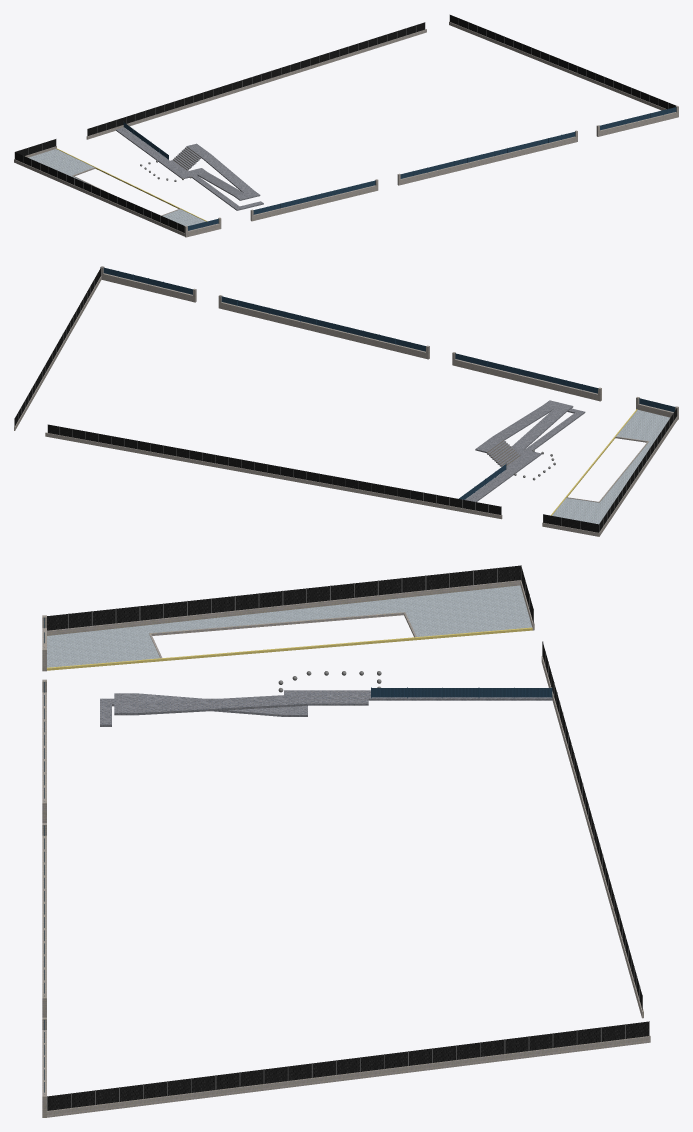
The model's file is Exterior1.fbx.
3 views of the same model, one above another, from view 1: azimuth 30°, elevation 25°; view 2: azimuth 150°, elevation 25°; view 3: azimuth 270°, elevation 25° (orthographic). The views are drawn at different scales.
Parts seen in each view (by area): view 1: Vallas, SueloEscPrinc, Grava, Bordillo; view 2: Vallas, SueloEscPrinc, Grava, Bordillo; view 3: Vallas, Grava, SueloEscPrinc, Bordillo.
Boxes of the visible parts, bbox=[...] form: Vallas: bbox=[14, 14, 678, 237]; SueloEscPrinc: bbox=[116, 127, 263, 210]; Grava: bbox=[28, 149, 205, 225]; Bordillo: bbox=[56, 148, 207, 221]; Vallas: bbox=[14, 266, 678, 536]; SueloEscPrinc: bbox=[465, 400, 585, 502]; Grava: bbox=[552, 410, 669, 524]; Bordillo: bbox=[550, 409, 648, 515]; Vallas: bbox=[42, 565, 650, 1117]; Grava: bbox=[47, 585, 532, 667]; SueloEscPrinc: bbox=[100, 690, 552, 726]; Bordillo: bbox=[47, 612, 532, 670].
Size of what is drawn, in the model's own units: 10758 by 222 by 5201.
